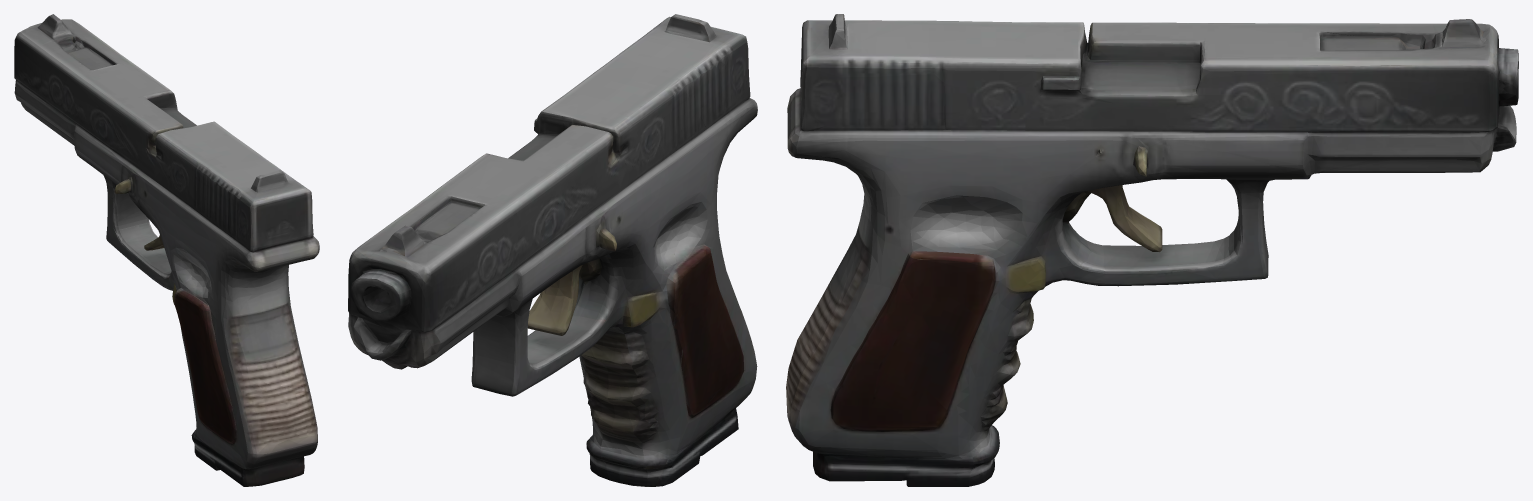
Rendered from pistol.glb.
3 views of the same model, side by side, from view 1: azimuth 30°, elevation 25°; view 2: azimuth 150°, elevation 25°; view 3: azimuth 270°, elevation 25° (orthographic). The views are drawn at different scales.
Visible parts, largest first — view 1: geometry_0; view 2: geometry_0; view 3: geometry_0.
Boxes of the visible parts, <box> form: geometry_0: <box>14,14,319,486</box>; geometry_0: <box>348,14,757,486</box>; geometry_0: <box>786,14,1518,486</box>.
Bounding box in the file's own units: 0.2273 × 0.6704 × 0.9979.
1 material, 1 textured.
